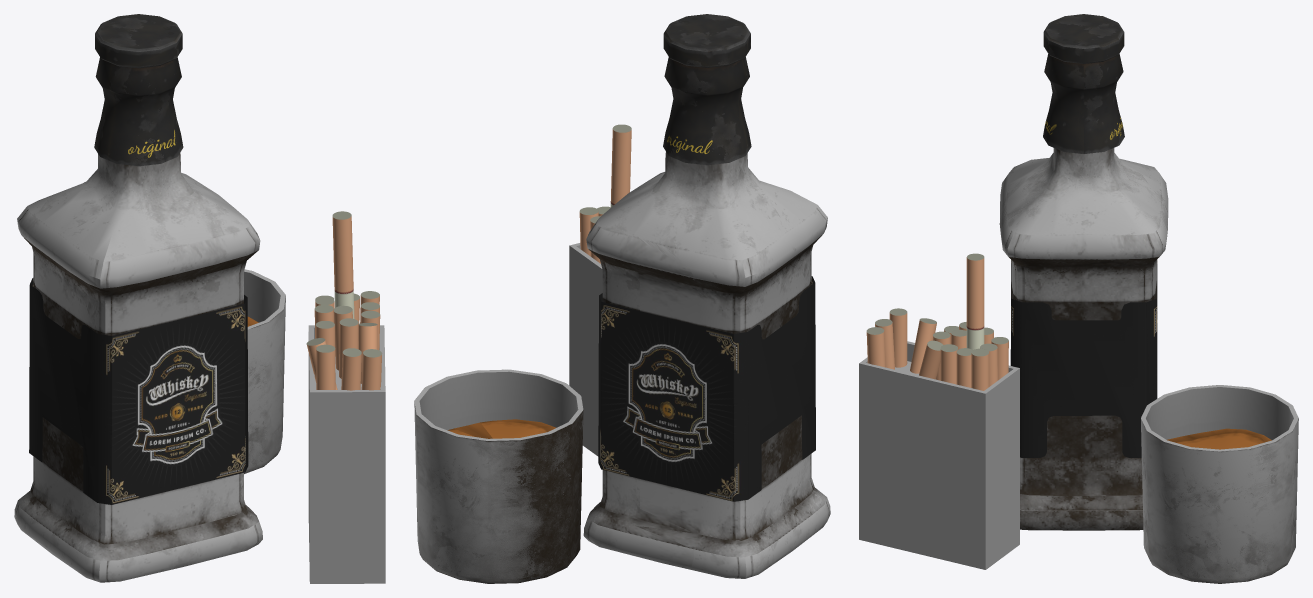
Rendered from cg_whiskey.fbx.
The picture shows the model from 3 angles, left to right: view 1: azimuth 30°, elevation 25°; view 2: azimuth 150°, elevation 25°; view 3: azimuth 270°, elevation 25°; orthographic projection. The views are drawn at different scales.
Visible parts, largest first — view 1: Cube.002, Cube.000, Cube1, Cylinder.002, Cylinder; view 2: Cube.002, Cube.000, Cylinder, Cylinder.002, Cube1, Cylinder.001; view 3: Cube1, Cube.002, Cylinder, Cube.000, Cylinder.002, Cylinder.001.
Boxes of the visible parts, x1,y1,x2,y2 form: Cube.002: (14,153,262,582); Cube.000: (29,278,248,504); Cube1: (306,211,385,583); Cylinder.002: (94,14,183,166); Cylinder: (244,269,285,473); Cube.002: (583,152,830,578); Cube.000: (598,276,815,501); Cylinder: (414,369,583,583); Cylinder.002: (663,14,751,165); Cube1: (569,124,631,456); Cylinder.001: (447,419,556,438); Cube1: (859,253,1019,569); Cube.002: (999,148,1168,530); Cylinder: (1141,385,1298,583); Cube.000: (1010,259,1157,457); Cylinder.002: (1043,14,1124,153); Cylinder.001: (1167,428,1271,449).
Bounding box in the file's own units: 45.06 × 72.84 × 62.41.
